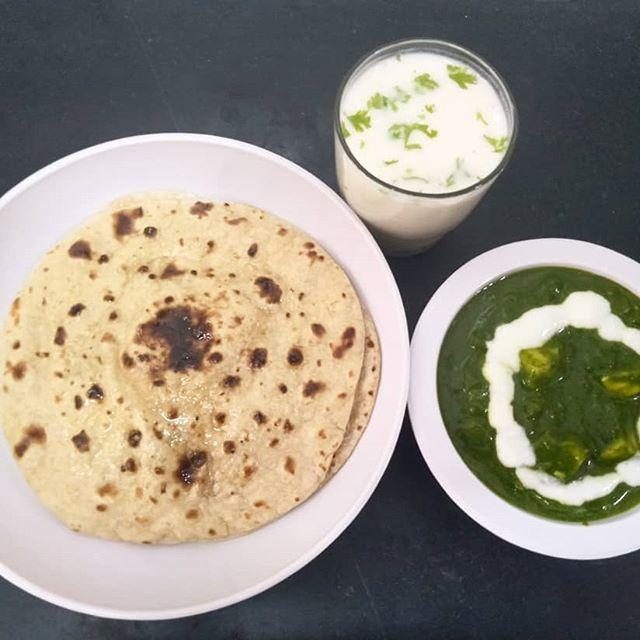Roti: (11, 213, 390, 547)
